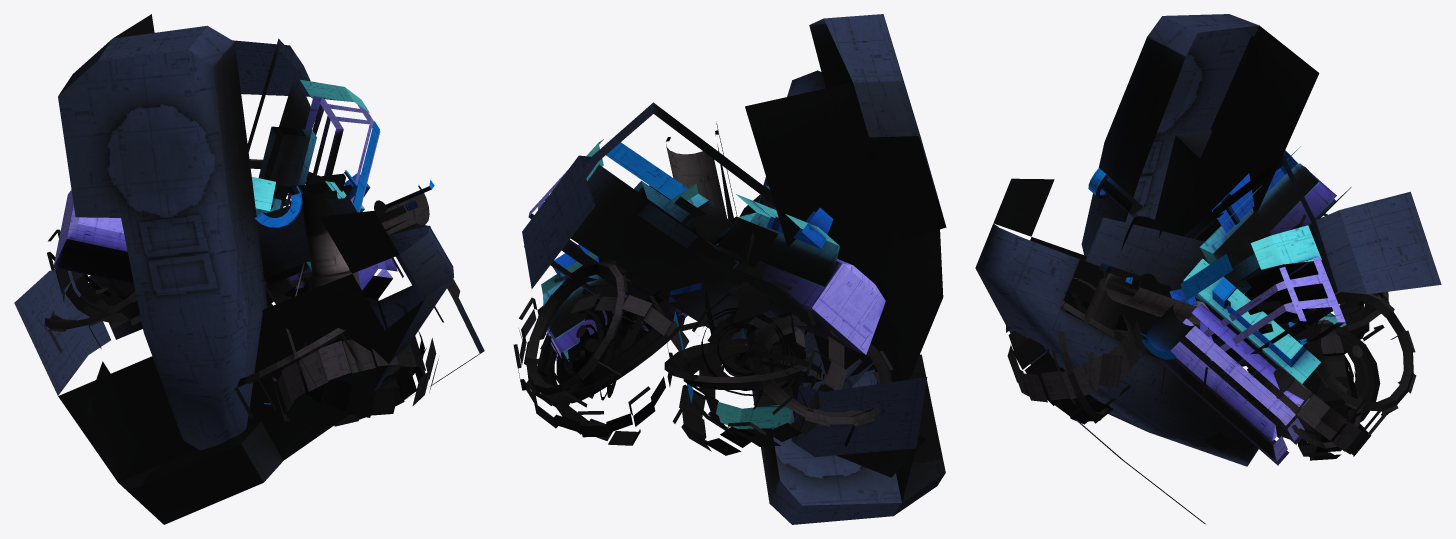
File: PlayerA_Die6.obj
3 renders of one model, left to right at view 1: azimuth 30°, elevation 25°; view 2: azimuth 150°, elevation 25°; view 3: azimuth 270°, elevation 25°, orthographic. The views are drawn at different scales.
Visible parts, largest first — view 1: Object001; view 2: Object001; view 3: Object001.
Boxes of the visible parts, x1=… form: Object001: x1=14, y1=14, x2=484, y2=524; Object001: x1=513, y1=14, x2=946, y2=524; Object001: x1=975, y1=14, x2=1441, y2=524.
Size of the model in its own units: 131 by 138 by 135.
1 material, 1 textured.
